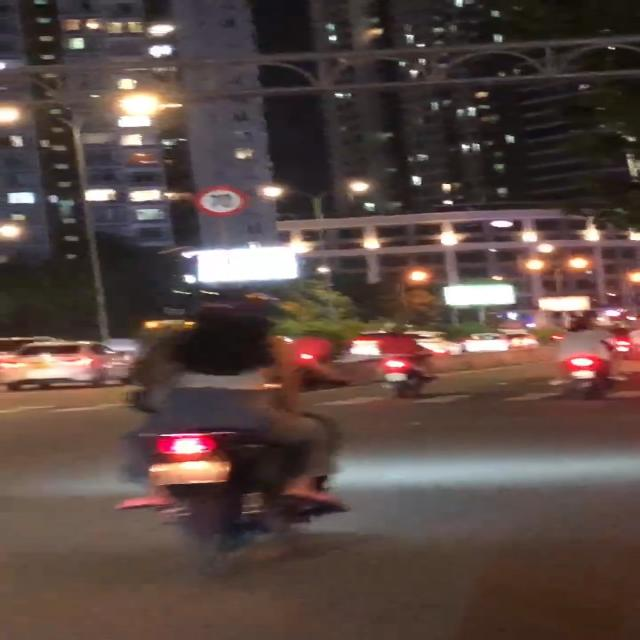Bien bao toc do toi da cho phep: (190, 182, 250, 220)
